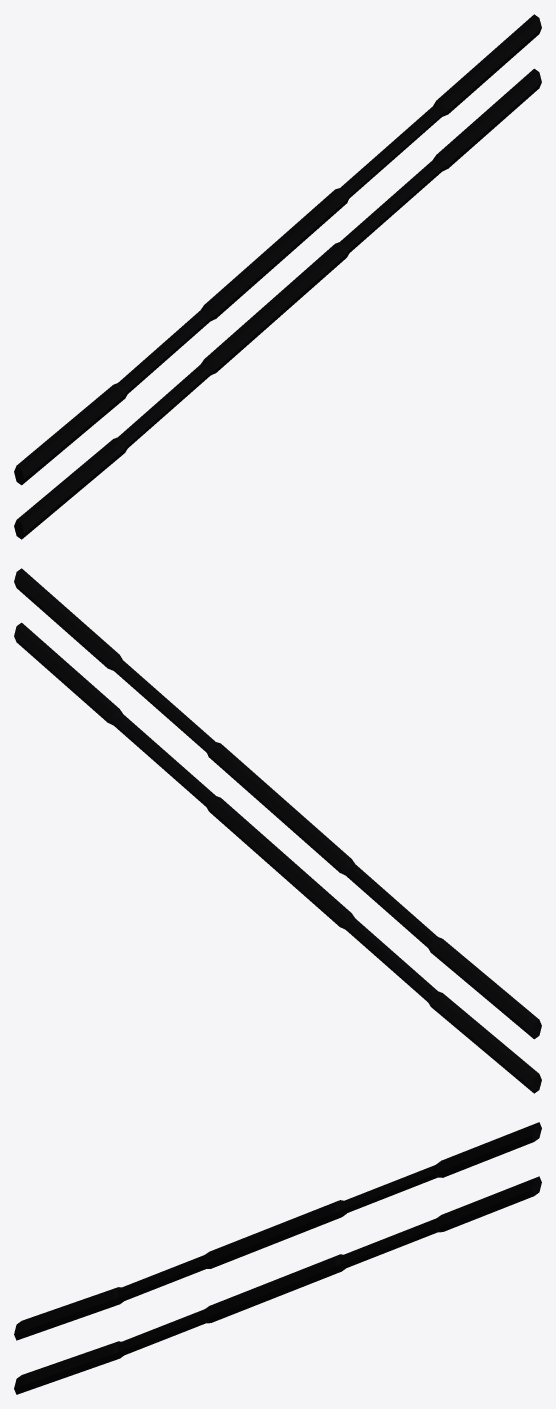
The model's file is cyber_SM_Bld_Railing_Rail_Stairs_01.gltf.
The picture shows the model from 3 angles, top to bottom: view 1: azimuth 30°, elevation 25°; view 2: azimuth 150°, elevation 25°; view 3: azimuth 330°, elevation 25°; orthographic projection.
Visible parts, largest first — view 1: SM_Bld_Railing_Rail_Stairs_01; view 2: SM_Bld_Railing_Rail_Stairs_01; view 3: SM_Bld_Railing_Rail_Stairs_01.
Boxes of the visible parts, x1,y1,x2,y2 form: SM_Bld_Railing_Rail_Stairs_01: [14, 14, 541, 539]; SM_Bld_Railing_Rail_Stairs_01: [14, 568, 541, 1093]; SM_Bld_Railing_Rail_Stairs_01: [14, 1122, 541, 1394].
Size of the model in its own units: 2.5 by 1.82 by 0.0859.
Materials: 1 (1 with a texture image).
